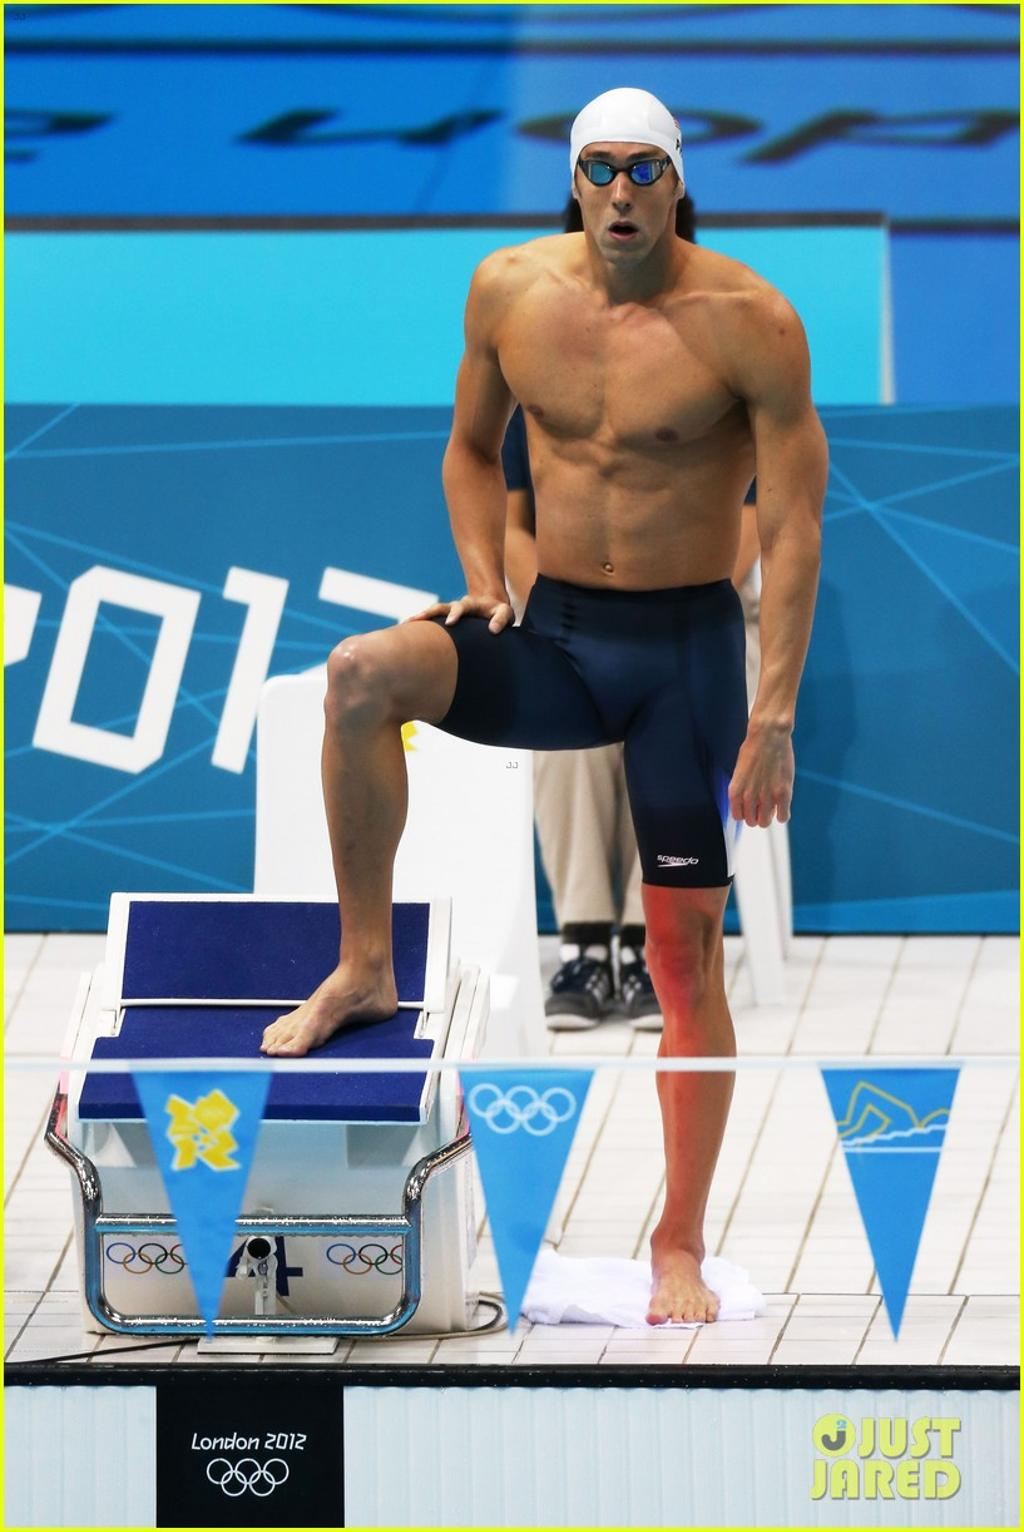face: (575, 138, 674, 261)
